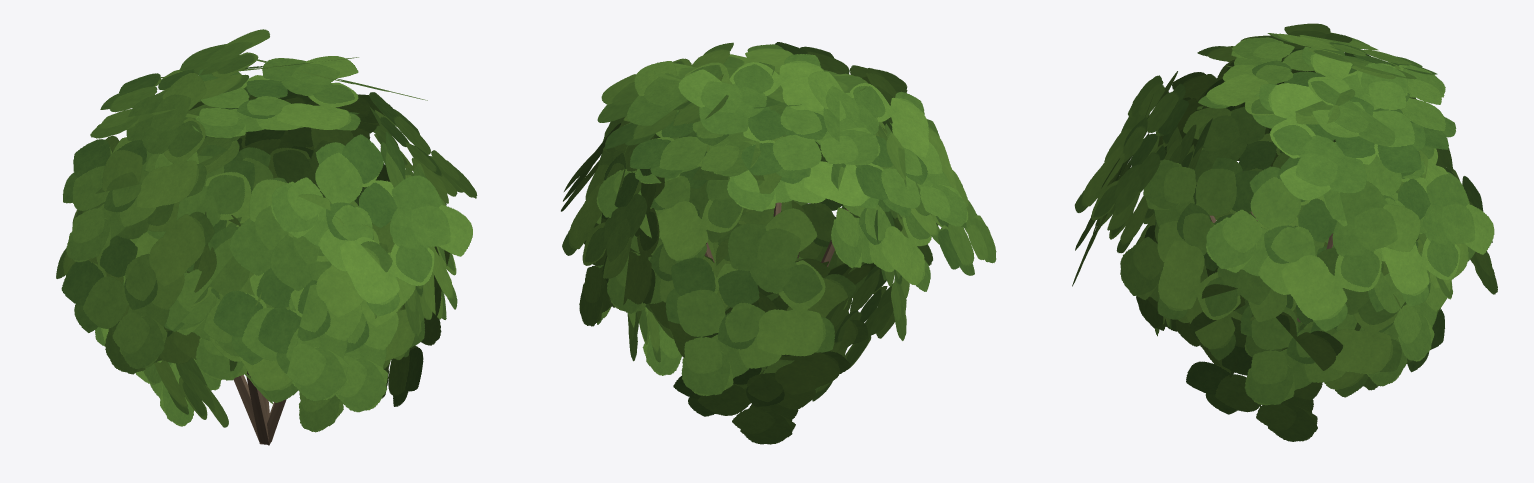
Rendered from shrub_tropical_01.glb.
The picture shows the model from 3 angles, left to right: view 1: azimuth 30°, elevation 25°; view 2: azimuth 150°, elevation 25°; view 3: azimuth 270°, elevation 25°; orthographic projection. The views are drawn at different scales.
Parts seen in each view (by area): view 1: shrub_tropical_01; view 2: shrub_tropical_01; view 3: shrub_tropical_01.
Part boxes in pixels (box(x1,y1,x2,y2)): shrub_tropical_01: box(56, 29, 477, 445); shrub_tropical_01: box(561, 42, 996, 444); shrub_tropical_01: box(1072, 23, 1497, 441).
Size of the model in its own units: 2.18 by 1.99 by 2.11.
Materials: 2 (2 with a texture image).
